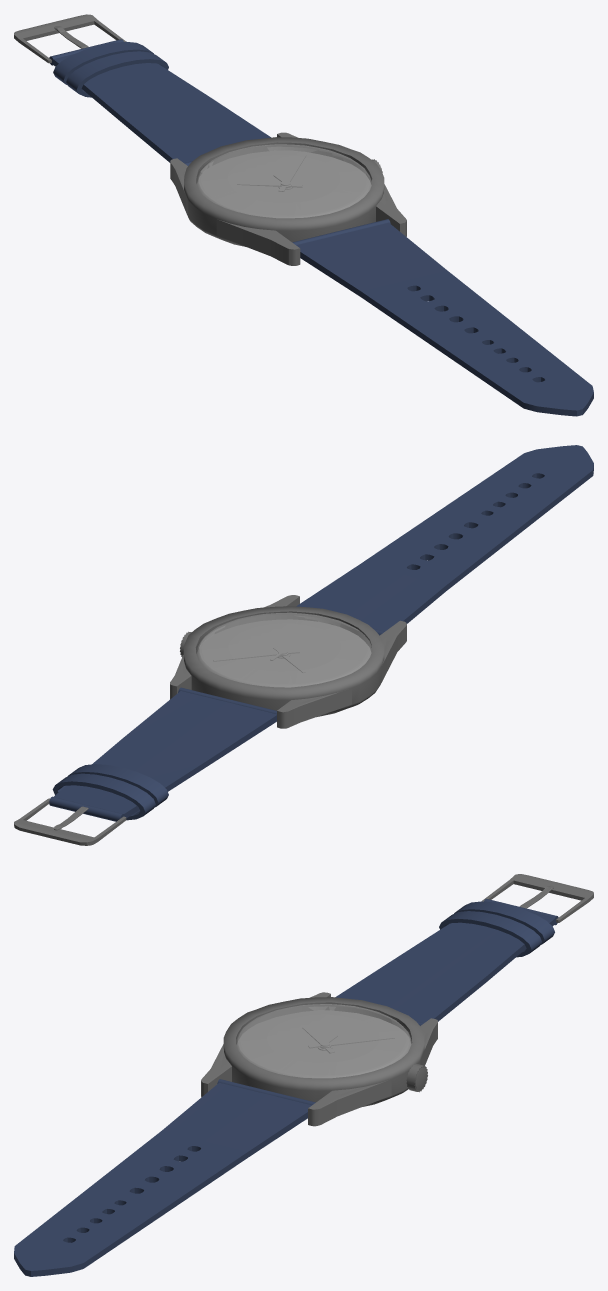
File: watchobj.fbx
3 renders of one model, top to bottom at view 1: azimuth 30°, elevation 25°; view 2: azimuth 150°, elevation 25°; view 3: azimuth 330°, elevation 25°, orthographic.
Parts seen in each view (by area): view 1: watchBandHoles, watchBody, watchBandBuckle1, watchFace, watchBuckle; view 2: watchBody, watchBandHoles, watchBandBuckle1, watchFace, watchBuckle; view 3: watchBandHoles, watchBody, watchBandBuckle1, watchFace, watchBuckle.
Boxes of the visible parts, left/top/right/bottom form: watchBandHoles: left=292, top=219, right=593, bottom=416; watchBody: left=170, top=132, right=406, bottom=265; watchBandBuckle1: left=49, top=39, right=270, bottom=165; watchFace: left=197, top=144, right=371, bottom=217; watchBuckle: left=14, top=14, right=125, bottom=63; watchBody: left=170, top=595, right=406, bottom=728; watchBandHoles: left=296, top=445, right=593, bottom=635; watchBandBuckle1: left=49, top=687, right=276, bottom=821; watchFace: left=196, top=612, right=371, bottom=687; watchBuckle: left=14, top=798, right=126, bottom=845; watchBandHoles: left=14, top=1079, right=315, bottom=1276; watchBody: left=201, top=992, right=437, bottom=1126; watchBandBuckle1: left=335, top=898, right=558, bottom=1025; watchFace: left=236, top=1004, right=411, bottom=1077; watchBuckle: left=482, top=874, right=593, bottom=922.
Bounding box in the file's own units: 6.3 × 1.26 × 31.42.
